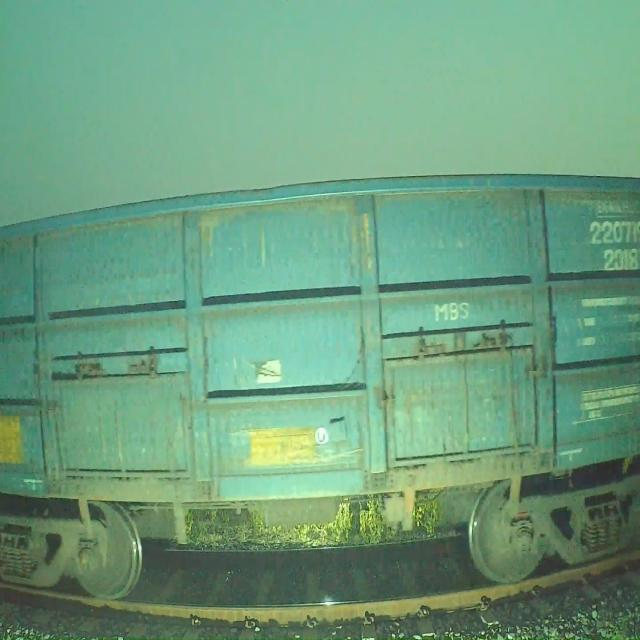WAgon-uic: (0, 169, 640, 605)
uic: (584, 213, 640, 276)
